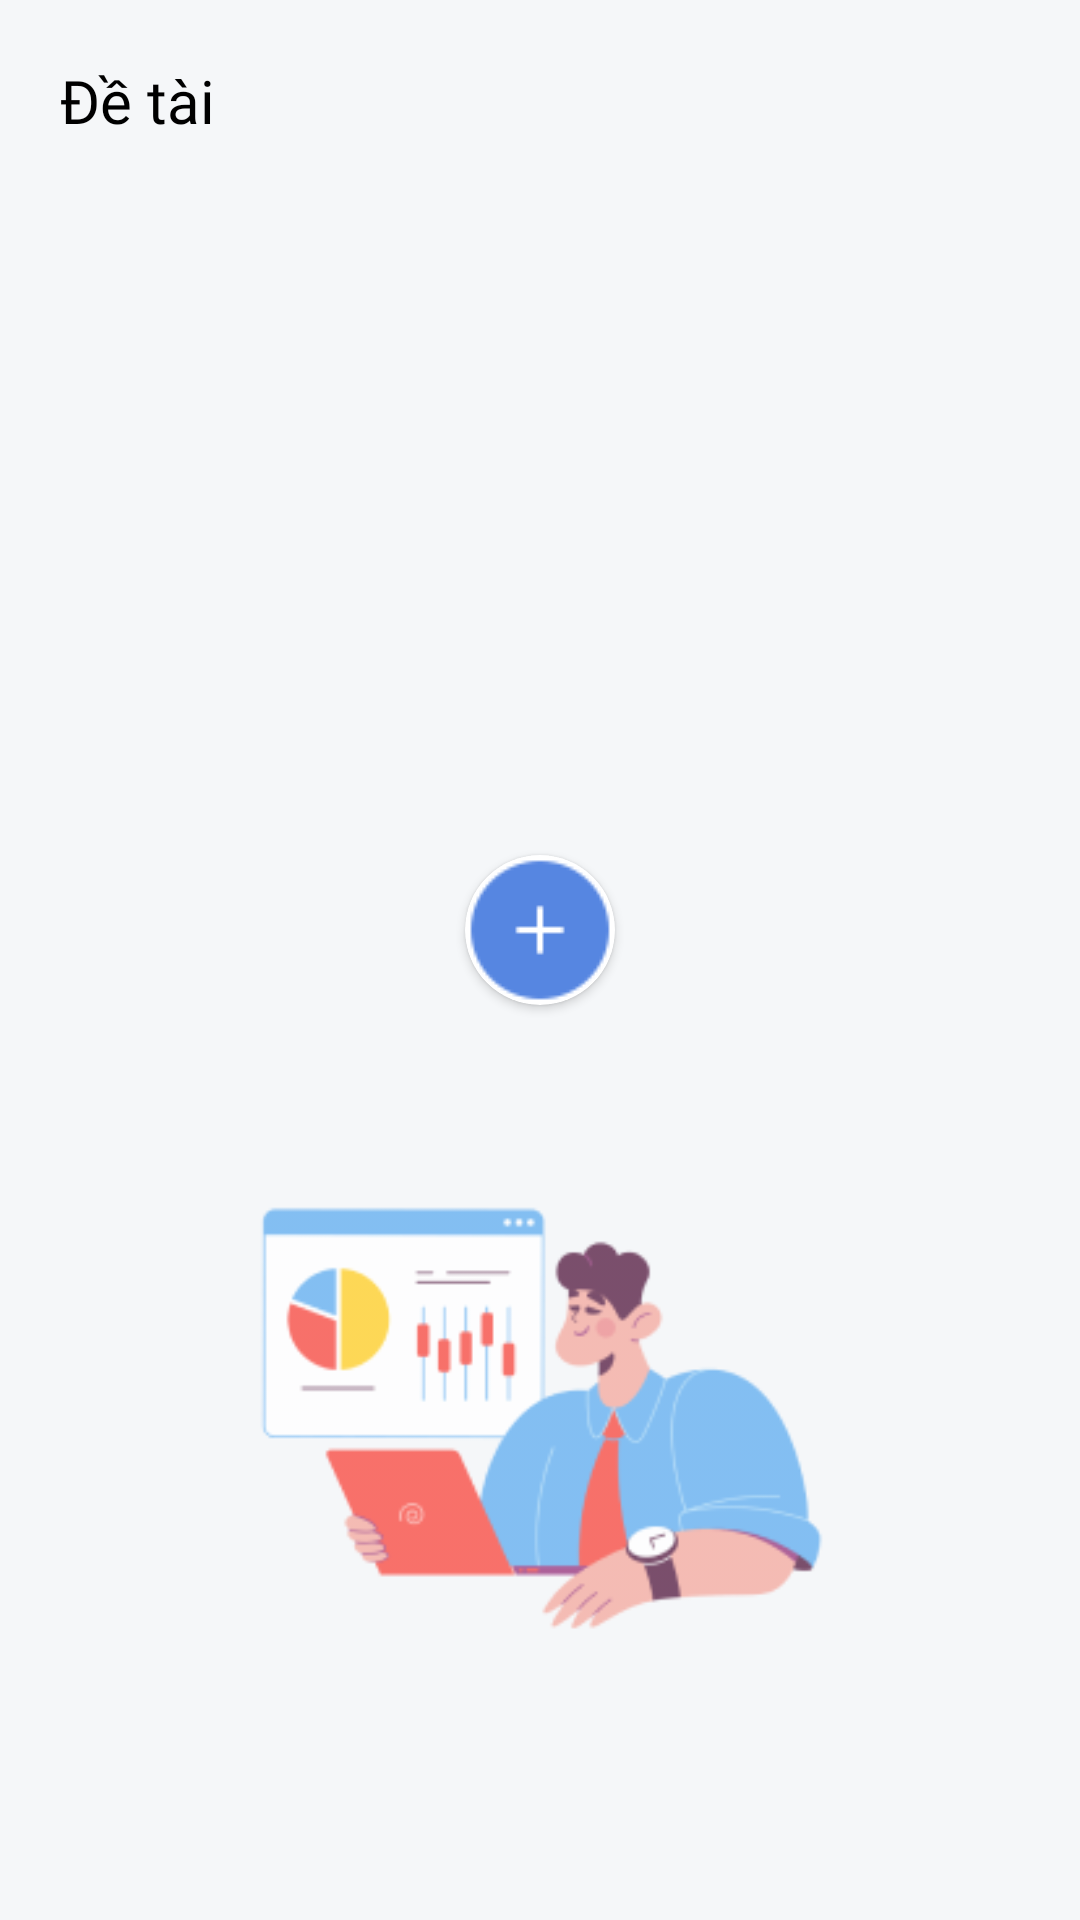

Named icons in this screenshot (1080w x 1920h) and their centers, (x=x, y=y):
add: (x=540, y=932)
